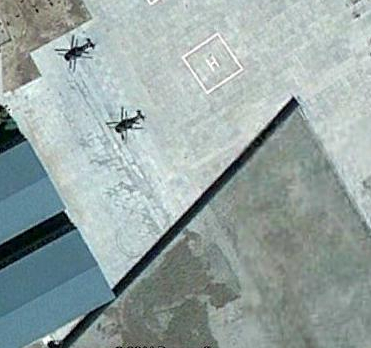heliport: (203, 53, 221, 73)
